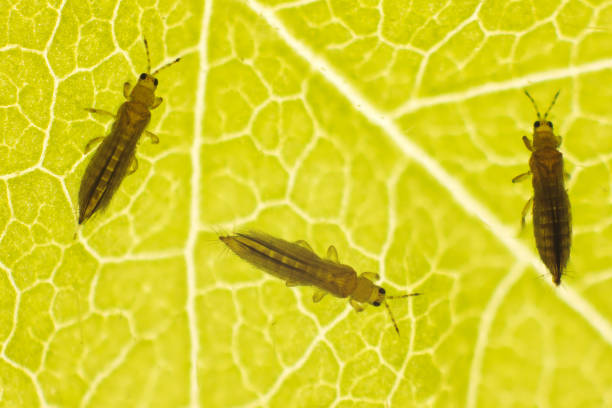Thrips: (200, 193, 412, 335), (55, 33, 177, 232), (503, 73, 589, 303)
